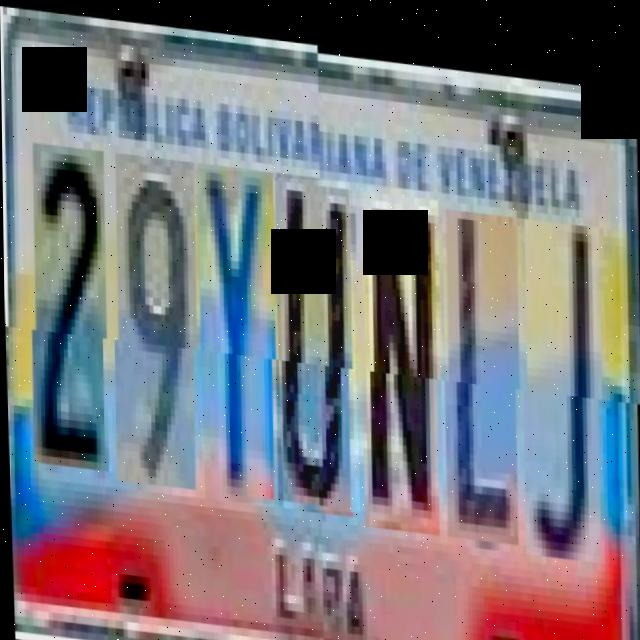2: (29, 148, 112, 478)
9: (111, 156, 203, 494)
J: (520, 201, 608, 547)
L: (441, 194, 525, 531)
N: (359, 178, 447, 524)
U: (272, 170, 360, 508)
Y: (194, 163, 282, 501)
